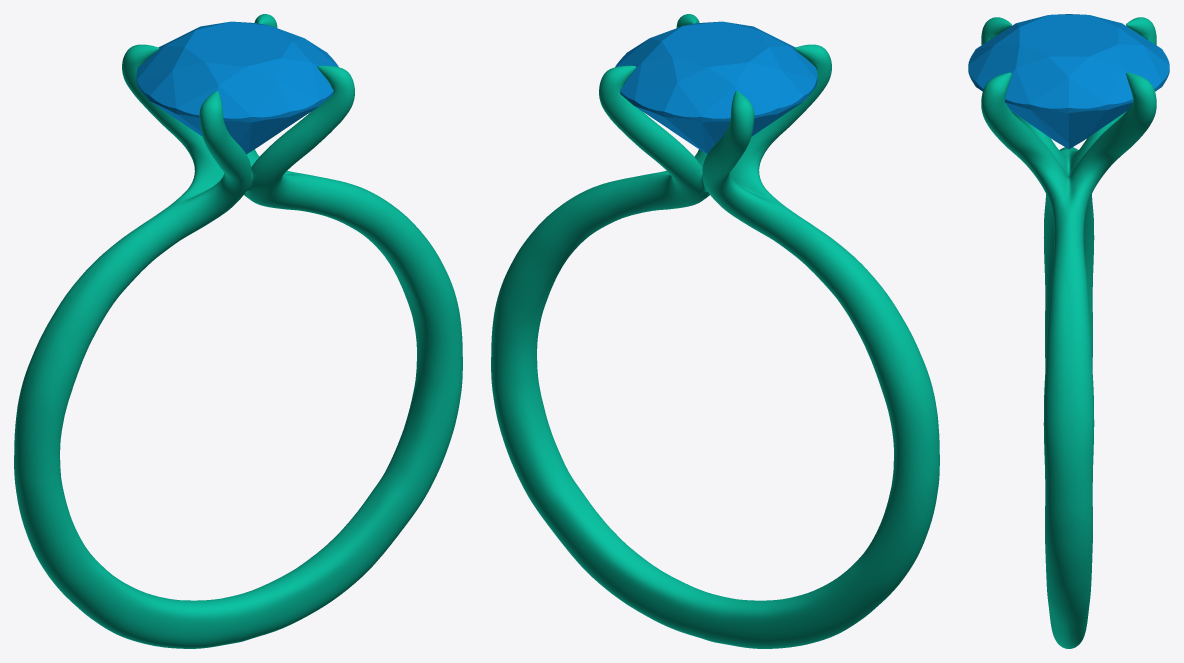
File: BE1343_RD_200ct_RENDER.glb
3 views of the same model, side by side, from view 1: azimuth 30°, elevation 25°; view 2: azimuth 150°, elevation 25°; view 3: azimuth 270°, elevation 25° (orthographic).
Visible parts, largest first — view 1: Metal 01, CS_Diamond_Round; view 2: Metal 01, CS_Diamond_Round; view 3: Metal 01, CS_Diamond_Round.
Part boxes in pixels (bbox=[...]): Metal 01: bbox=[14, 14, 462, 648]; CS_Diamond_Round: bbox=[136, 21, 338, 154]; Metal 01: bbox=[491, 14, 939, 648]; CS_Diamond_Round: bbox=[615, 21, 817, 154]; Metal 01: bbox=[981, 17, 1156, 648]; CS_Diamond_Round: bbox=[968, 14, 1169, 148].
Bounding box in the file's own units: 19.98 × 25.79 × 8.
